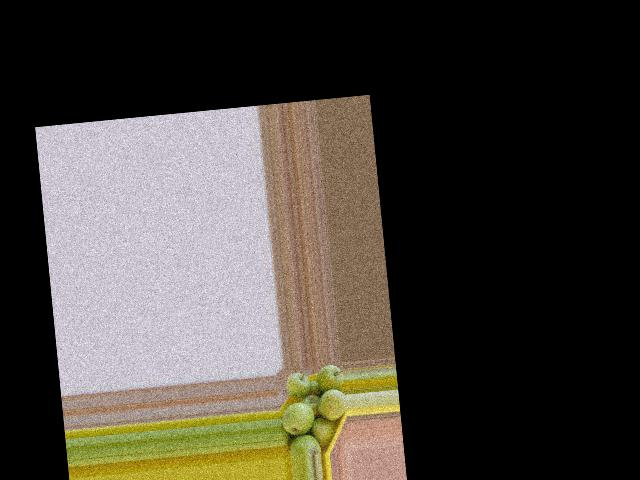apple: (309, 416, 340, 448)
